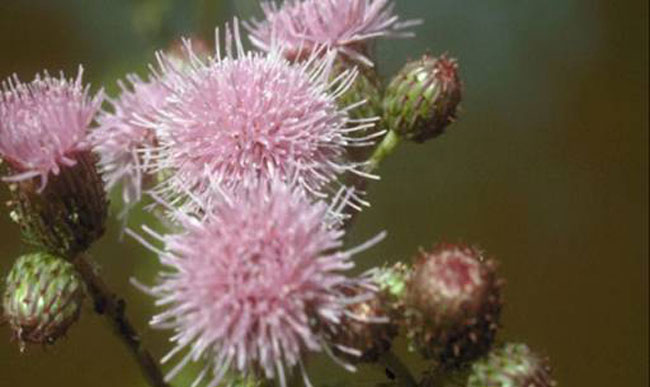thistle: (124, 42, 384, 225), (159, 183, 382, 387), (232, 2, 415, 143), (2, 74, 115, 264)
